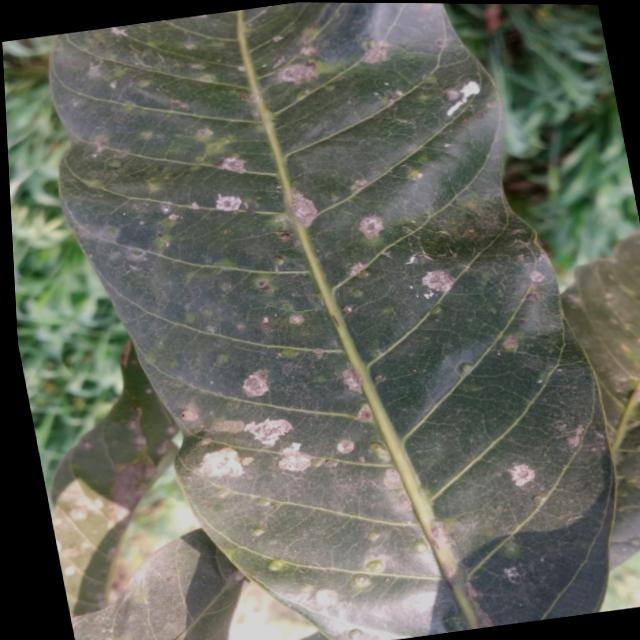Powdery Mildew: (255, 405, 331, 478), (197, 440, 245, 487), (406, 265, 457, 303), (207, 189, 253, 220), (508, 458, 538, 491)
